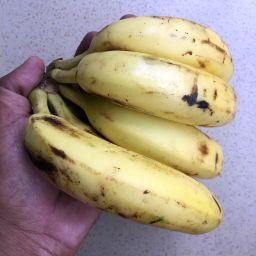banana: (22, 86, 225, 237), (47, 75, 225, 181), (45, 51, 239, 130), (44, 12, 237, 85), (42, 81, 102, 144)
